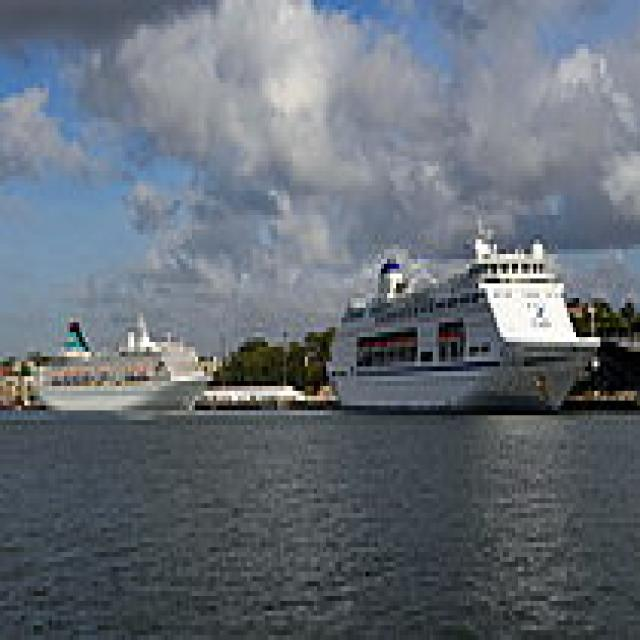Cruise: (320, 210, 600, 410), (25, 303, 216, 420)
